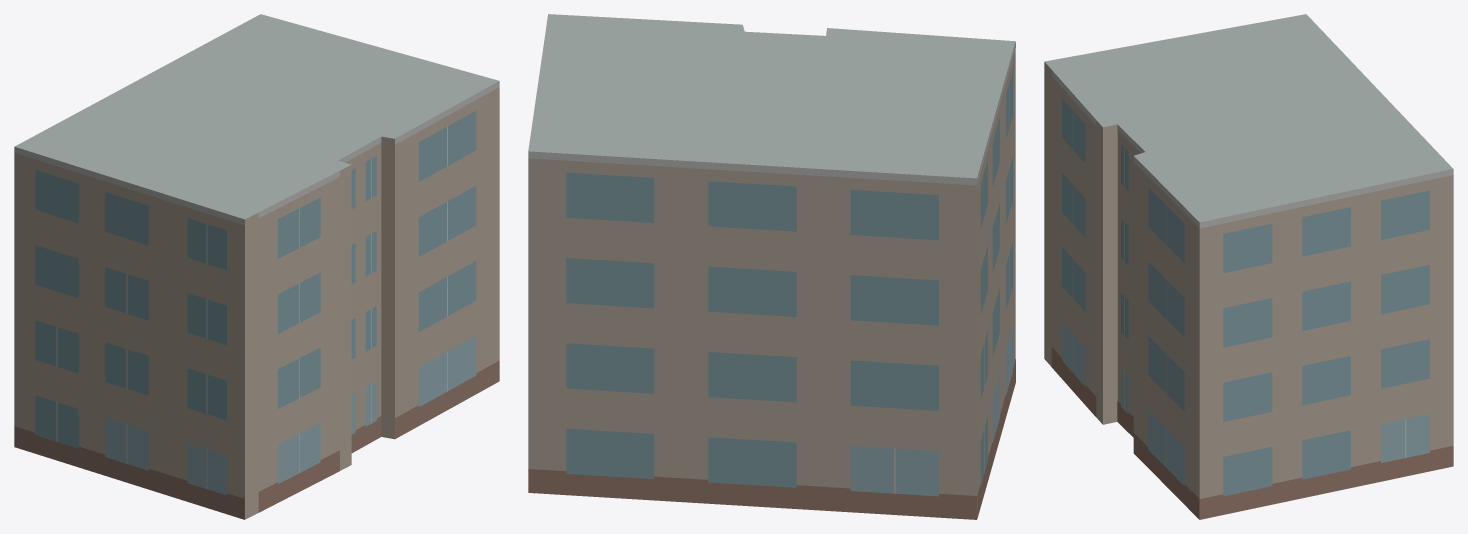
File: survey-upis-32809145.glb
3 renders of one model, left to right at view 1: azimuth 30°, elevation 25°; view 2: azimuth 150°, elevation 25°; view 3: azimuth 270°, elevation 25°, orthographic. The views are drawn at different scales.
Visible parts, largest first — view 1: survey-upis-32809145.tmp; view 2: survey-upis-32809145.tmp; view 3: survey-upis-32809145.tmp.
Part boxes in pixels (x1=…): survey-upis-32809145.tmp: x1=14, y1=14, x2=499, y2=519; survey-upis-32809145.tmp: x1=528, y1=14, x2=1015, y2=519; survey-upis-32809145.tmp: x1=1044, y1=14, x2=1453, y2=519.
Size of the model in its own units: 17.89 by 11.9 by 14.84.
